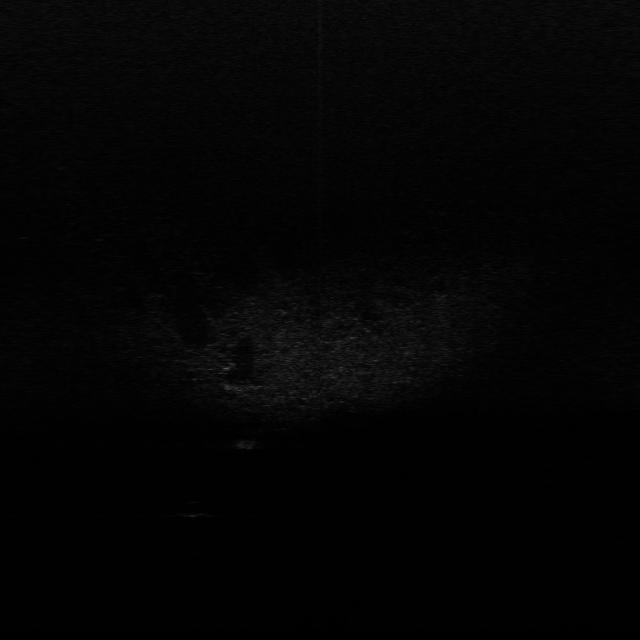ball: (178, 500, 207, 520)
cube: (236, 433, 262, 452)
